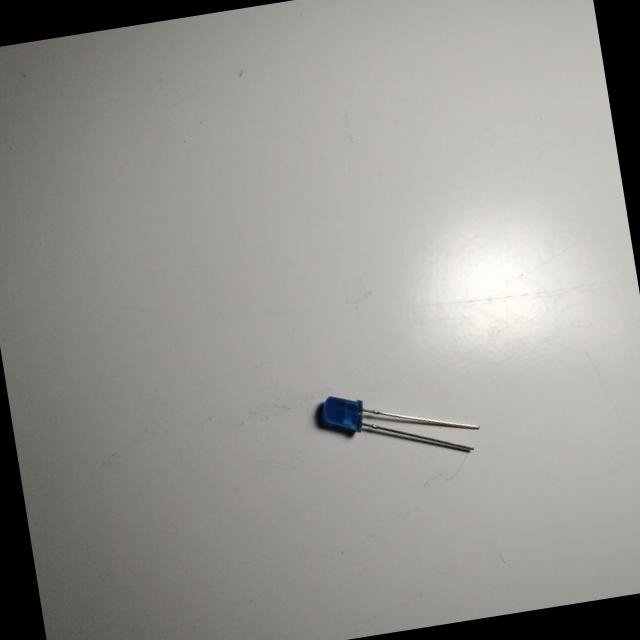blue_led: (312, 372, 484, 476)
